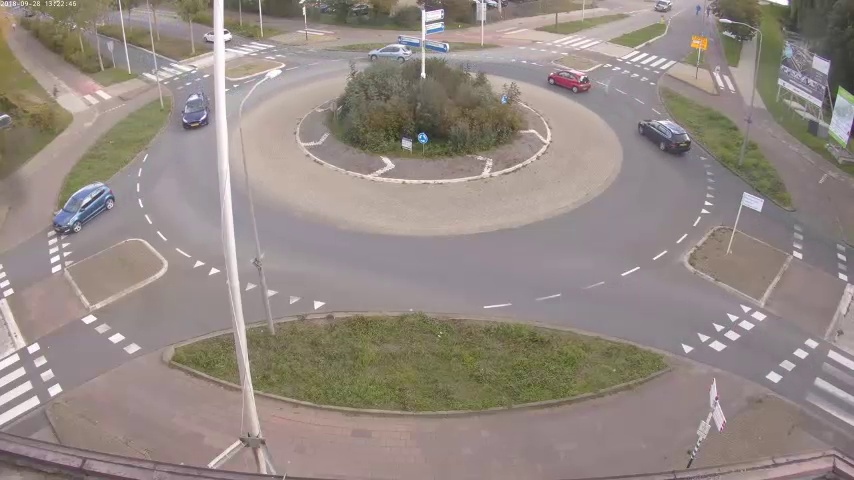car: (53, 178, 122, 235), (640, 118, 692, 158), (181, 89, 211, 133), (368, 41, 409, 64), (548, 71, 589, 91), (204, 26, 235, 42), (657, 1, 674, 15)
